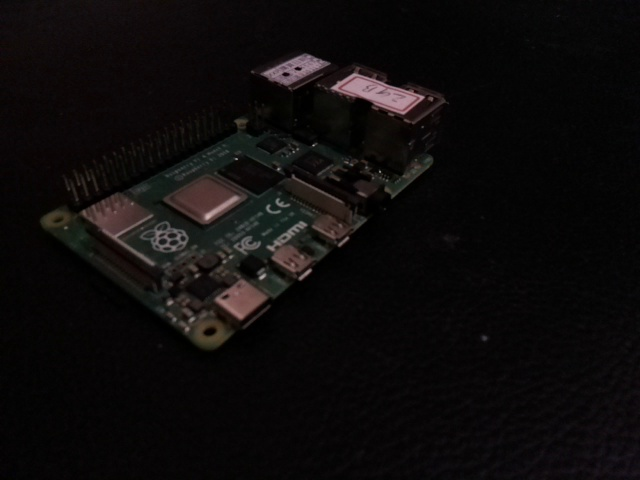pi4: (26, 9, 449, 432)
